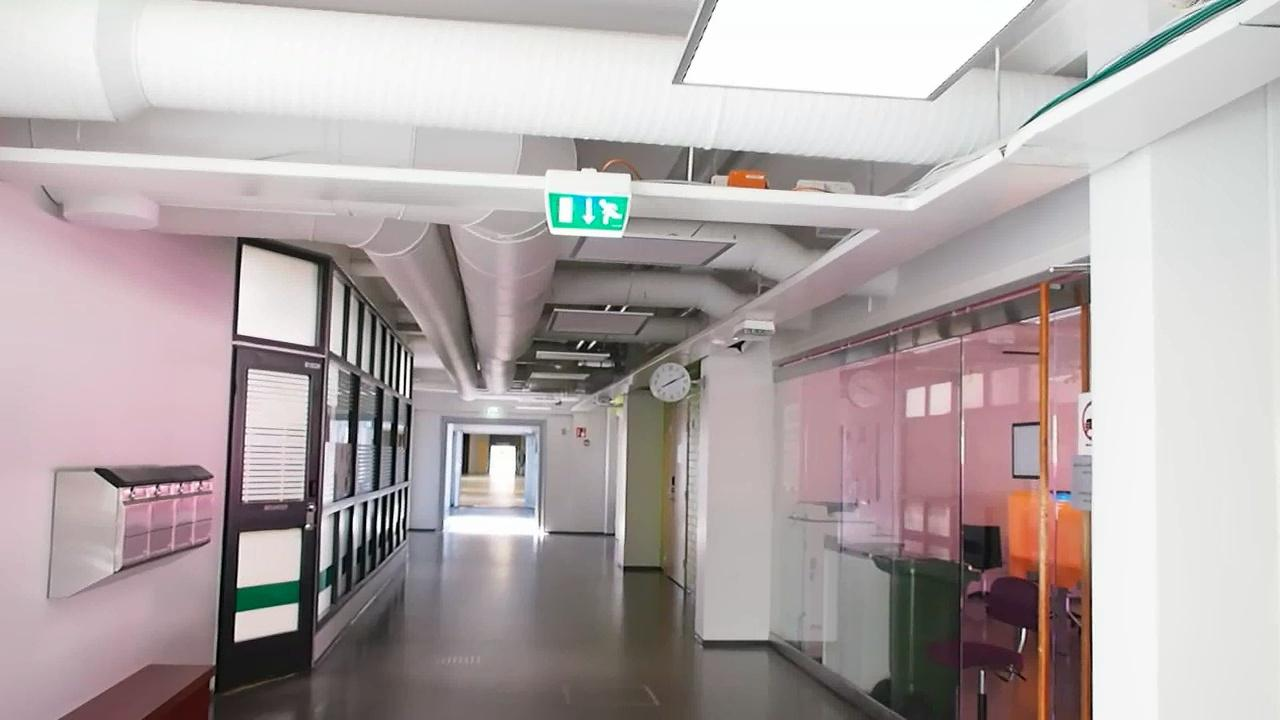exit: (546, 184, 631, 236)
